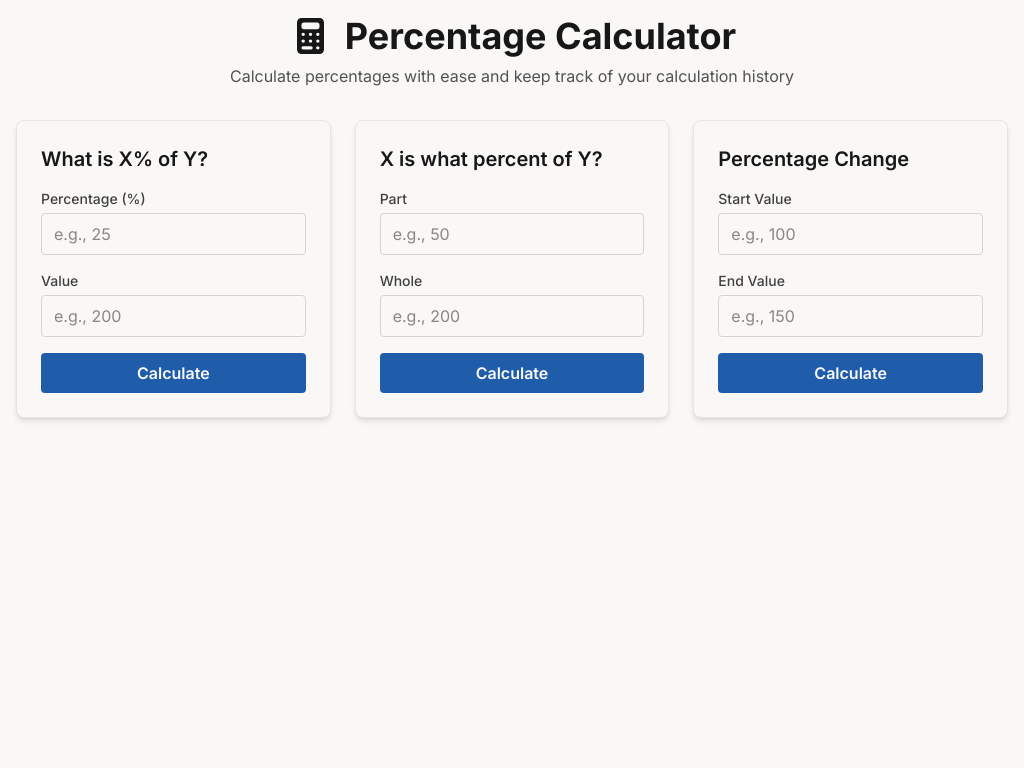
Test: PercentageCalculator › History Functionality › allows deleting individual history items
In the number field labelled "Percentage (%)": (173, 234) [41,213,306,255], type "25"
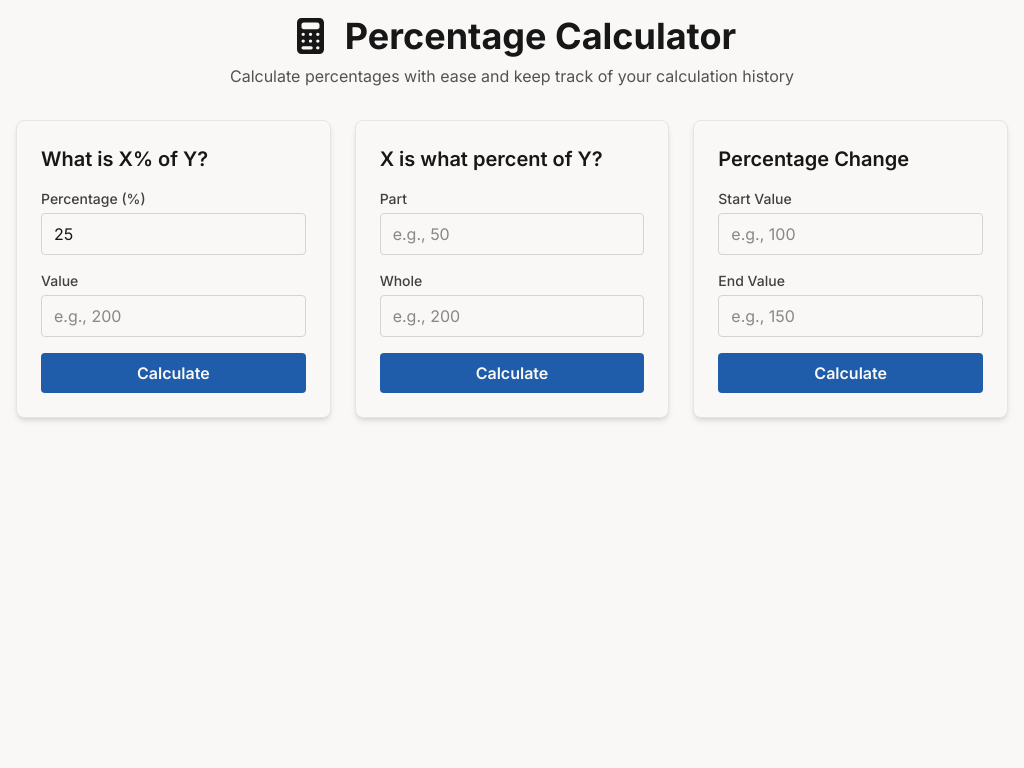
In the number field labelled "Value": (173, 316) [41,295,306,337], type "200"
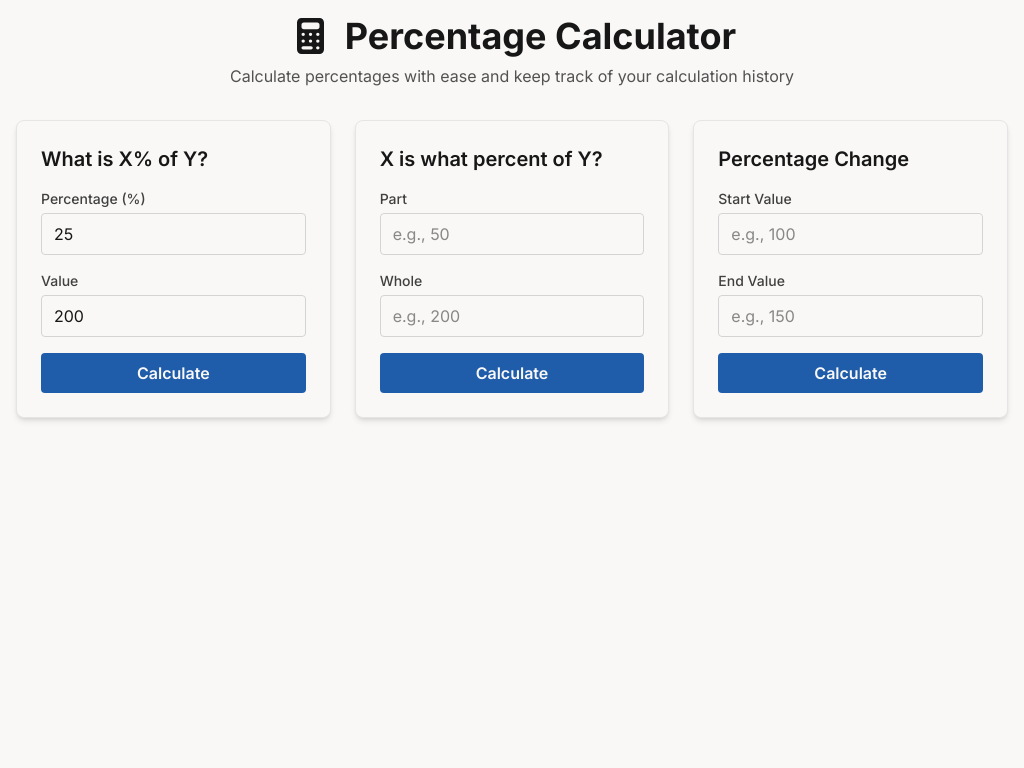
Click the button "Calculate" below "Percentage (%)": (173, 373) [41,353,306,393]
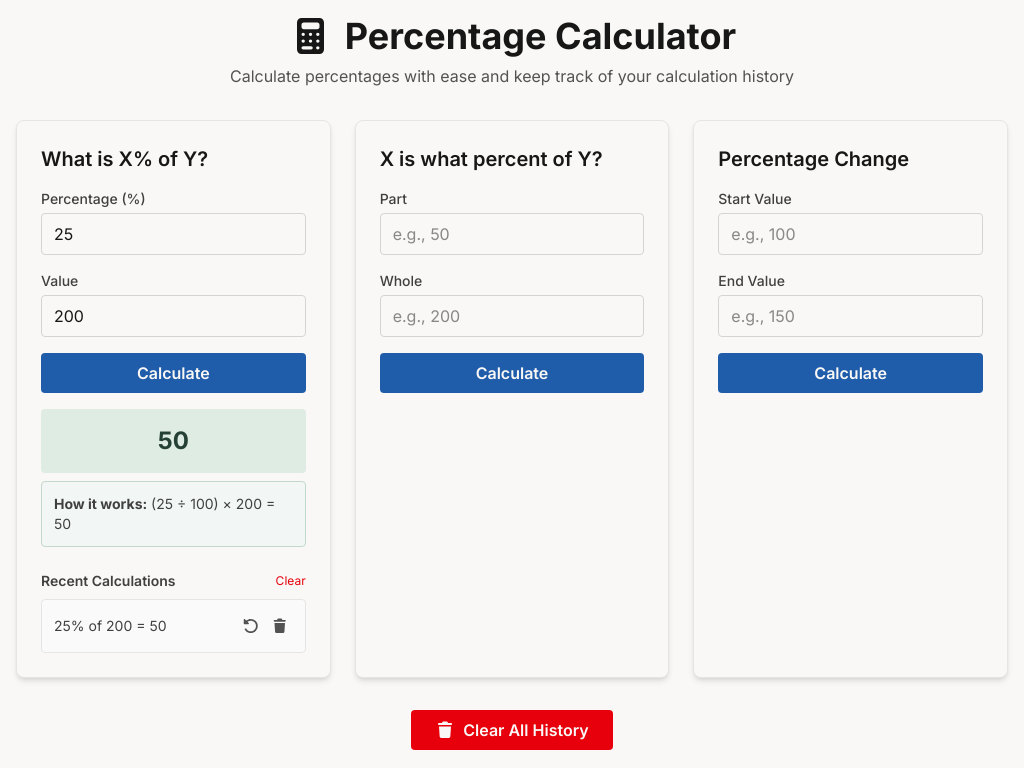
Result: the text "25% of 200 = 50" is shown at [54,617,166,634]
Click the button titled "delete": (280, 626) [267,612,293,640]
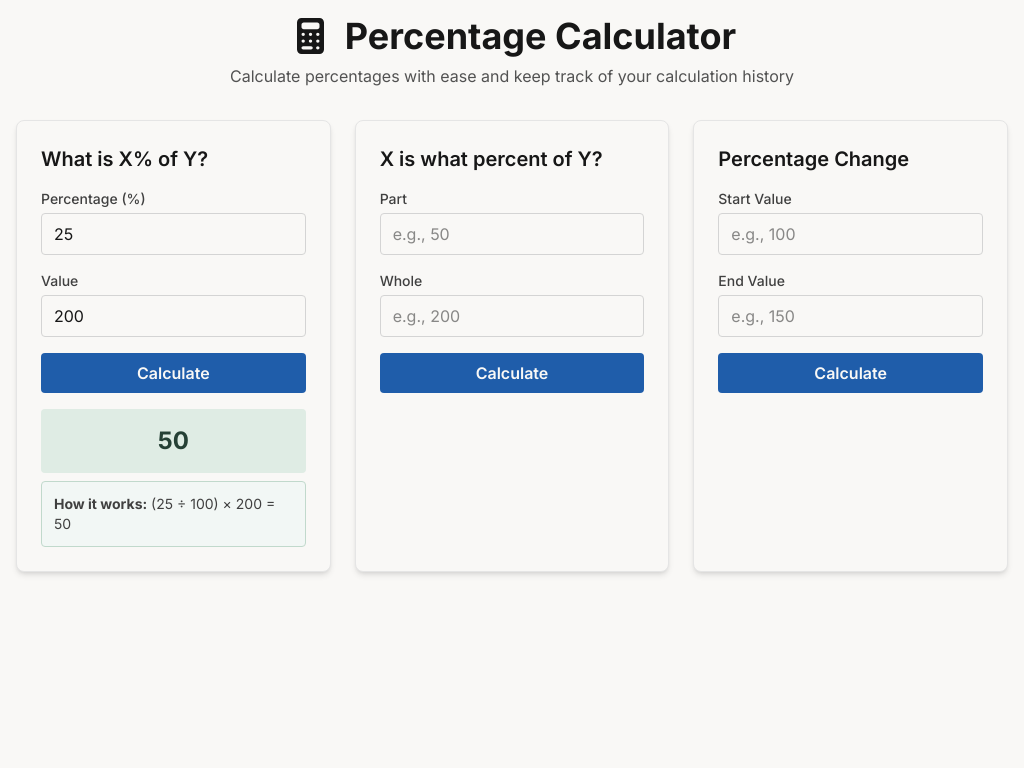
Result: the text "25% of 200 = 50" is gone
